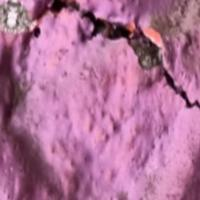crack: (57, 0, 199, 119)
